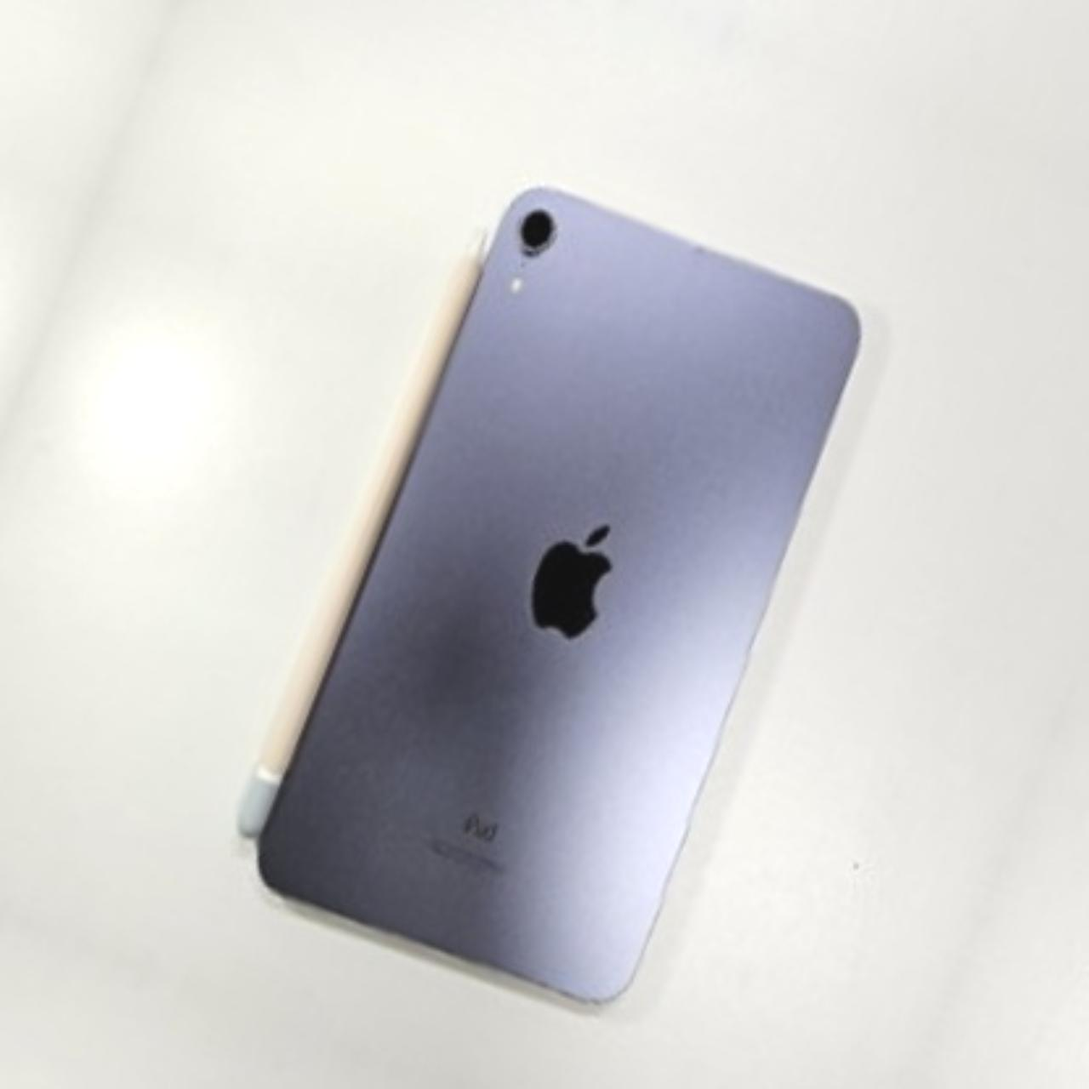Tablet_PC: (202, 147, 924, 1055)
